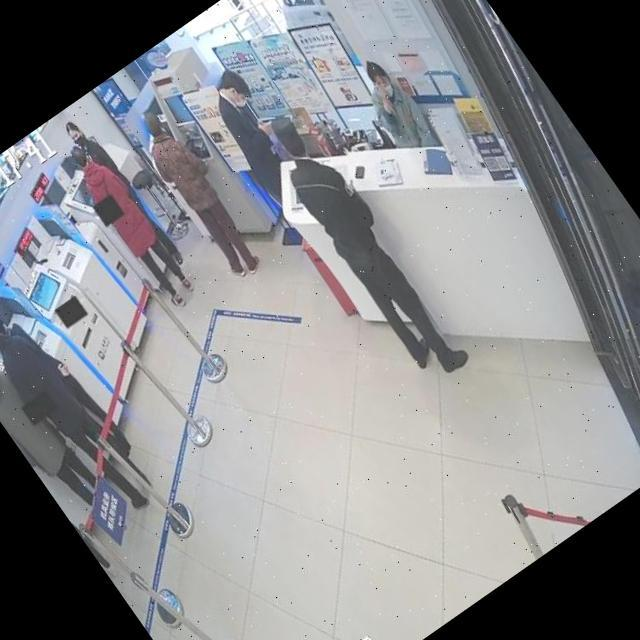person: (254, 101, 476, 386), (0, 294, 160, 528), (125, 101, 275, 287), (0, 291, 137, 480), (58, 135, 200, 314), (0, 409, 126, 588), (61, 110, 190, 278), (0, 329, 109, 522), (195, 64, 314, 206), (346, 51, 440, 162)
